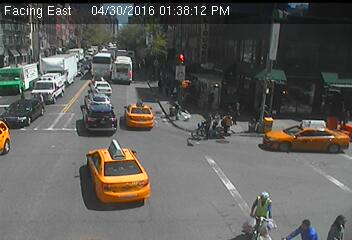neg: (236, 183, 277, 237), (192, 109, 219, 145), (60, 74, 85, 107), (313, 57, 337, 89), (16, 147, 39, 178), (298, 112, 320, 142), (169, 51, 189, 77), (100, 137, 118, 161), (15, 101, 32, 124)
pos: (329, 210, 348, 236), (227, 96, 246, 122), (218, 109, 236, 133), (296, 214, 313, 236)
